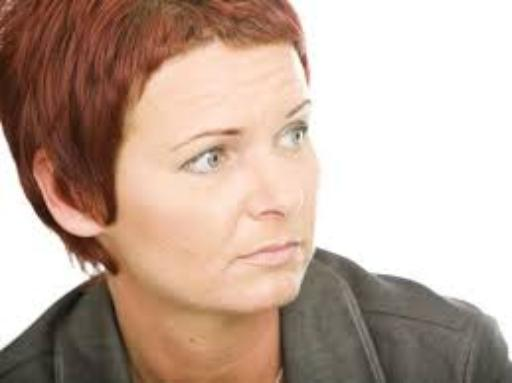left_eye: (269, 125, 314, 152)
left_lip_corner: (290, 239, 307, 253)
right_eye: (176, 151, 236, 178)
right_lip_corner: (227, 250, 252, 267)
